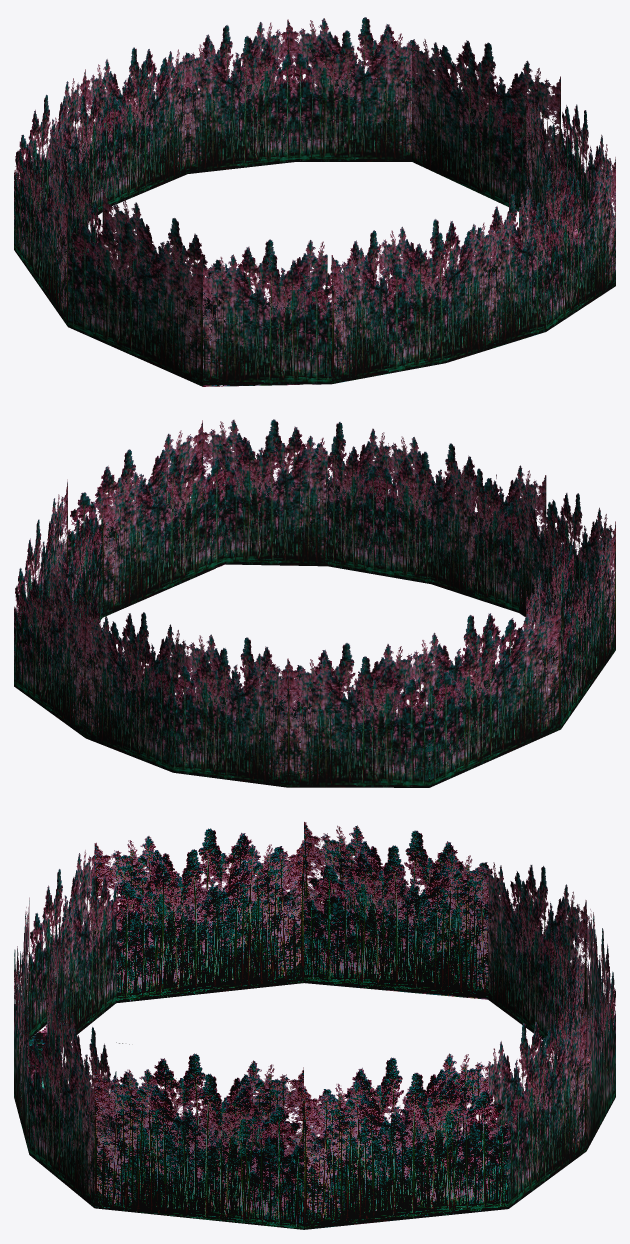
Rendered from abyss_perimeter.glb.
3 views of the same model, one above another, from view 1: azimuth 30°, elevation 25°; view 2: azimuth 150°, elevation 25°; view 3: azimuth 270°, elevation 25° (orthographic). The views are drawn at different scales.
Visible parts, largest first — view 1: abyss_perimeter; view 2: abyss_perimeter; view 3: abyss_perimeter.
Boxes of the visible parts, <box> form: abyss_perimeter: <box>14,17,615,386</box>; abyss_perimeter: <box>14,419,615,787</box>; abyss_perimeter: <box>14,822,615,1229</box>.
Size of the model in its own units: 130 by 33.92 by 125.
1 material, 1 textured.
